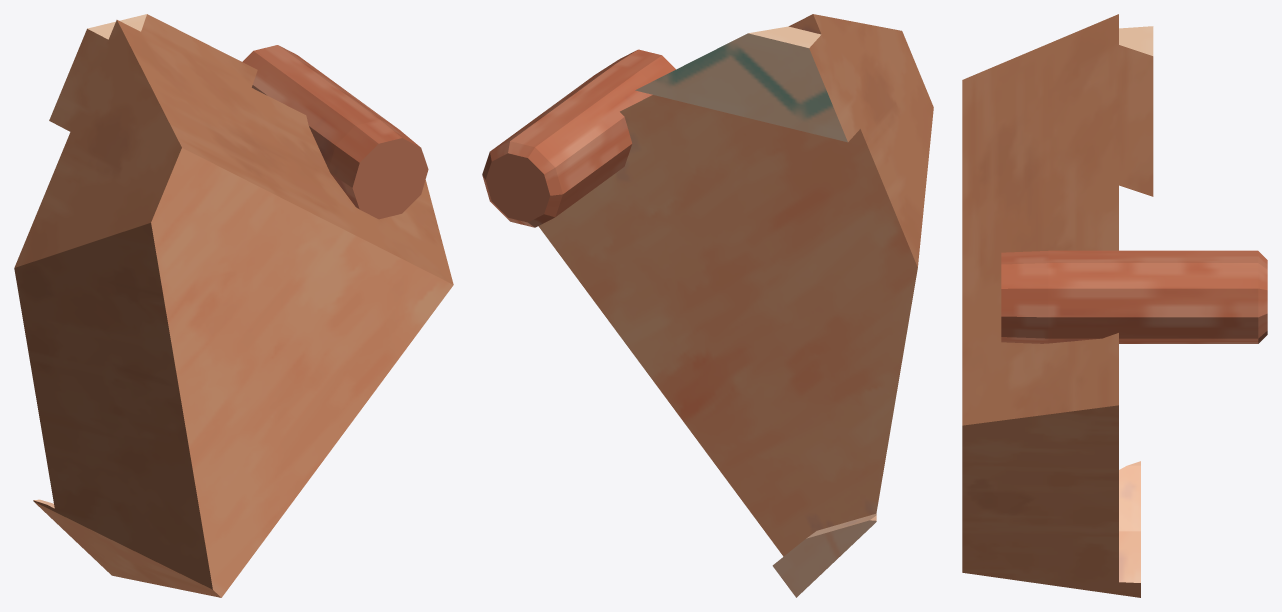
File: wall2_window_s06.fbx
3 renders of one model, left to right at view 1: azimuth 30°, elevation 25°; view 2: azimuth 150°, elevation 25°; view 3: azimuth 270°, elevation 25°, orthographic. The views are drawn at different scales.
Visible parts, largest first — view 1: wall2_window_s06; view 2: wall2_window_s06; view 3: wall2_window_s06.
Boxes of the visible parts, <box> form: wall2_window_s06: <box>14,14,453,597</box>; wall2_window_s06: <box>482,14,933,597</box>; wall2_window_s06: <box>962,14,1267,597</box>.
Bounding box in the file's own units: 3.11 × 4.09 × 1.95.
